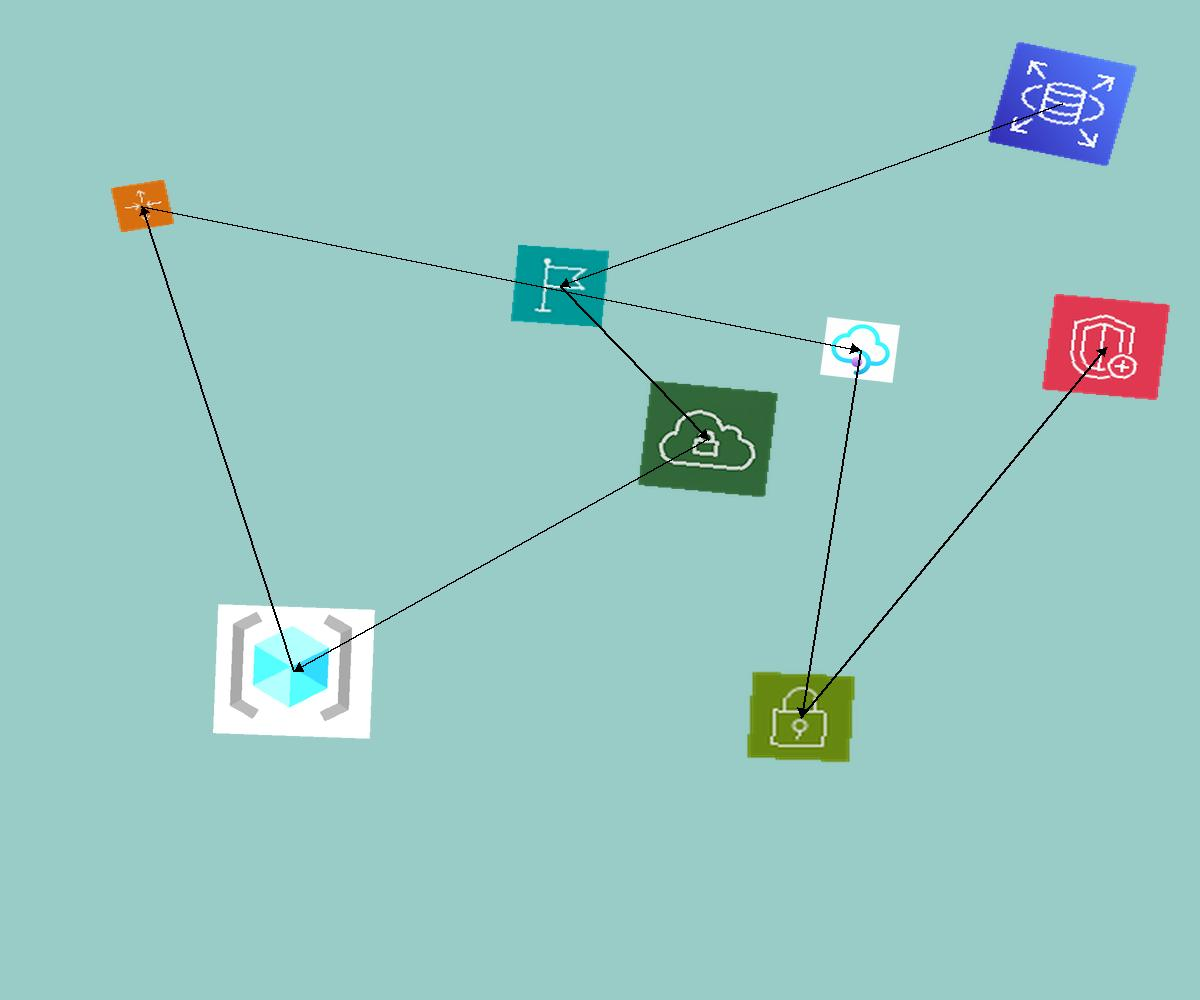AWS-Private_vpc: (637, 380, 779, 498)
AWS-Public-subnet: (745, 670, 857, 764)
AWS-RDS: (987, 41, 1138, 167)
AWS-Region: (510, 244, 610, 328)
AWS-Scaling-group: (110, 179, 175, 233)
AWS-Shield: (1041, 293, 1171, 401)
Azure_api_gateway: (820, 317, 900, 383)
Azure_resource_group: (213, 604, 375, 739)
